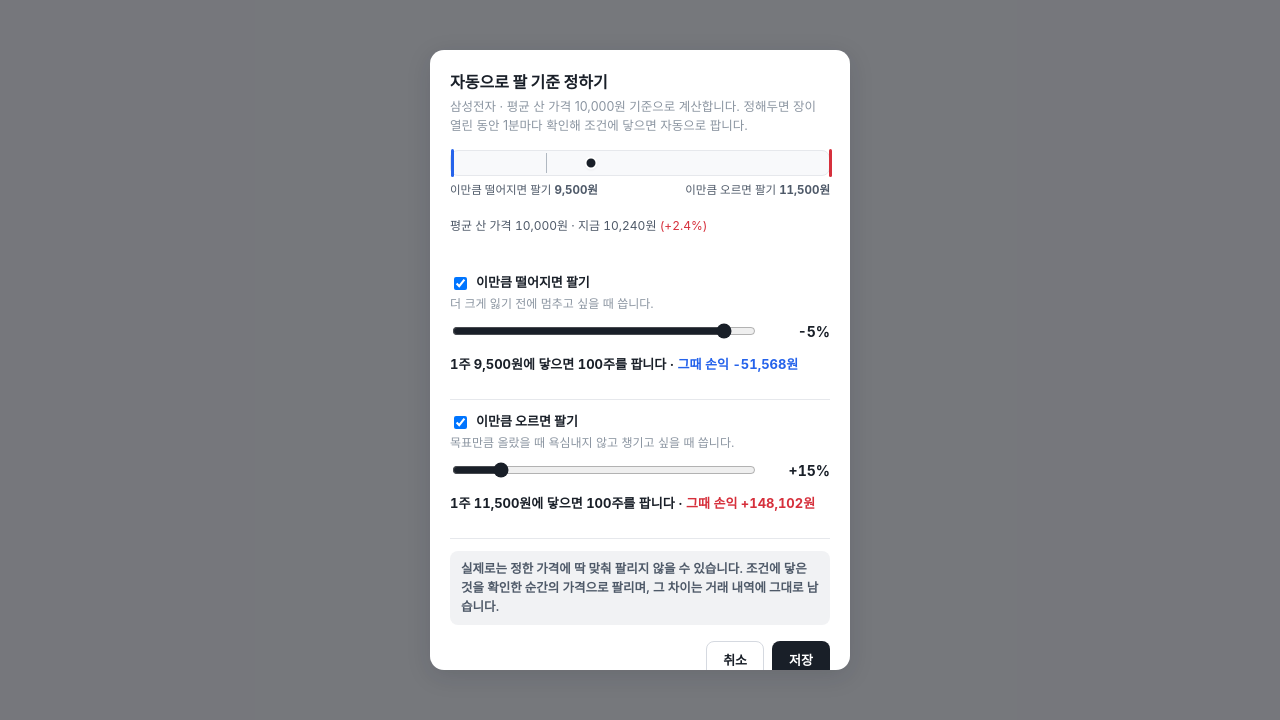
Test: SellWallEditor — 퍼센트를 즉시 금액으로 환산(SPEC §8.1 #6) › 슬라이더를 움직이면 금액이 즉시 따라간다
Set the slider named "이만큼 떨어지면 팔기 퍼센트" to "-10" at (695, 331), box [452,323,756,339]
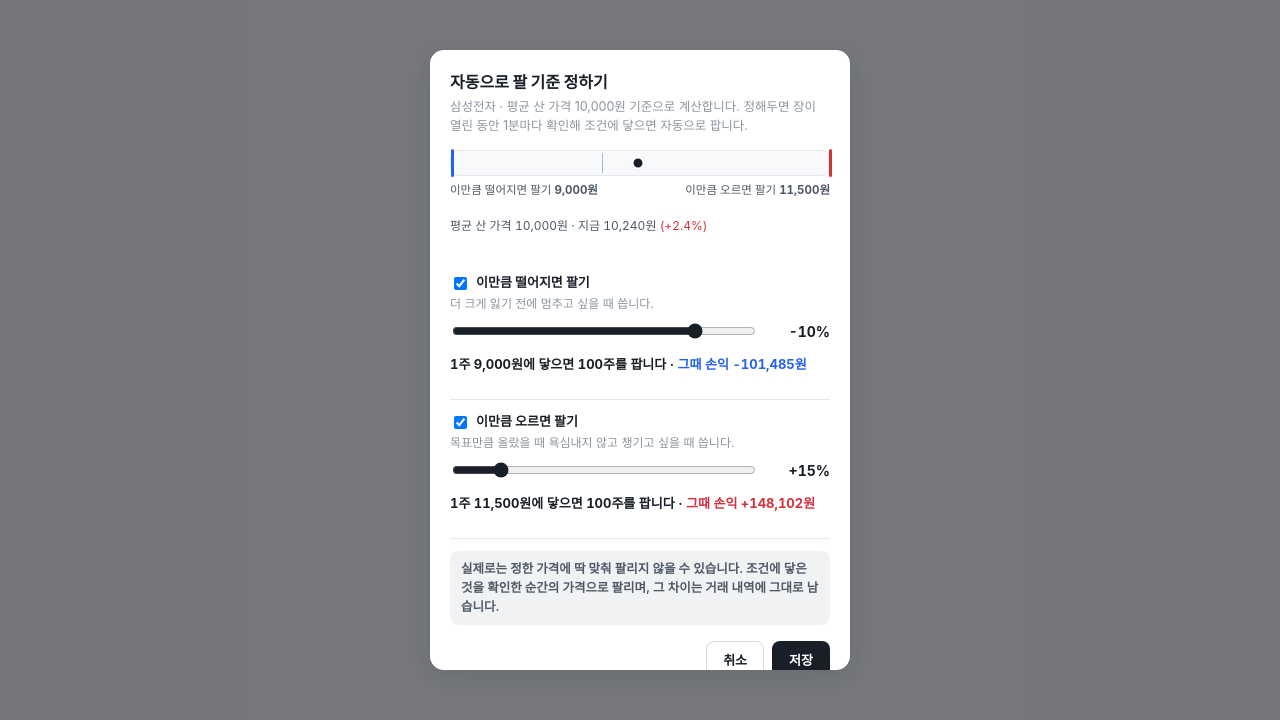
Result: the element with test id "stop-price" shows "9,000원" at [474,356,523,372]
